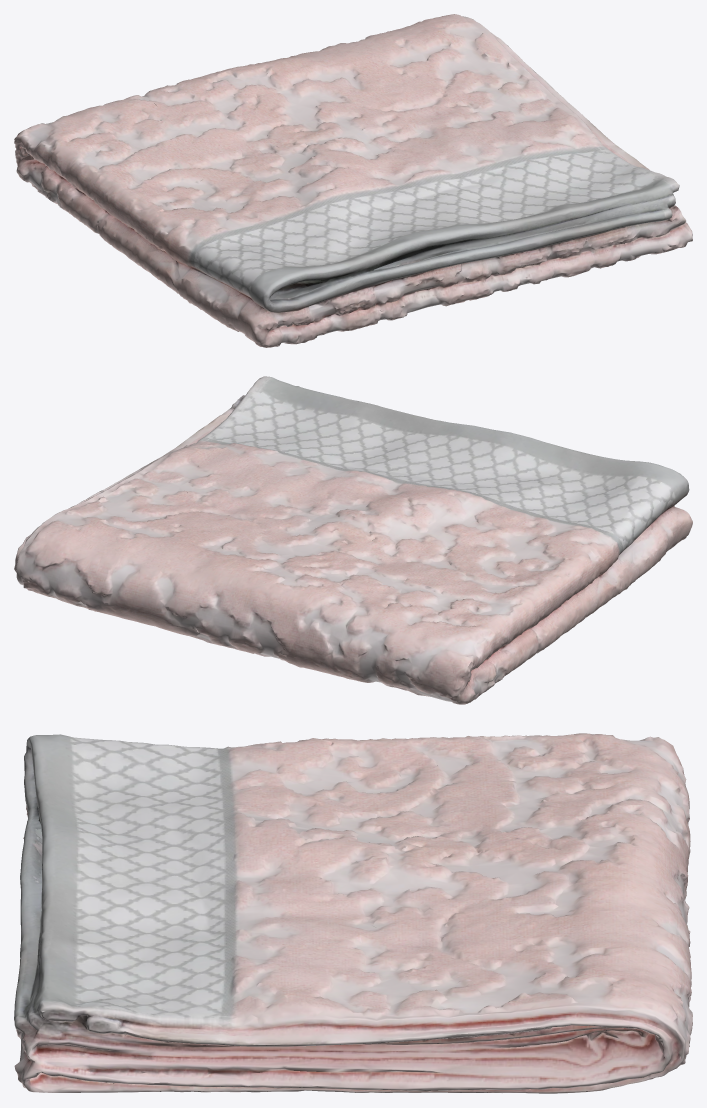
File: Threshold_Textured_Damask_Bath_Towel_Pink.glb
3 renders of one model, top to bottom at view 1: azimuth 30°, elevation 25°; view 2: azimuth 150°, elevation 25°; view 3: azimuth 270°, elevation 25°, orthographic. The views are drawn at different scales.
Visible parts, largest first — view 1: Threshold_Textured_Damask_Bath_Towel_Pink; view 2: Threshold_Textured_Damask_Bath_Towel_Pink; view 3: Threshold_Textured_Damask_Bath_Towel_Pink.
Boxes of the visible parts, x1,y1,x2,y2 form: Threshold_Textured_Damask_Bath_Towel_Pink: (14,14,692,347); Threshold_Textured_Damask_Bath_Towel_Pink: (14,376,692,704); Threshold_Textured_Damask_Bath_Towel_Pink: (14,733,692,1093).
Size of the model in its own units: 0.3564 by 0.0574 by 0.3404.
Materials: 1 (1 with a texture image).
